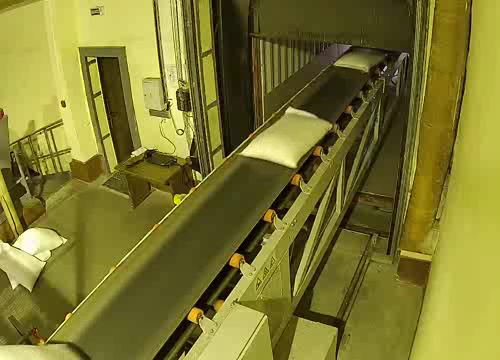bag: (236, 104, 338, 174), (0, 338, 97, 360), (330, 43, 391, 77)
